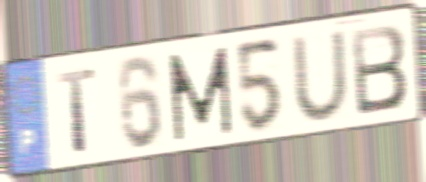5: (234, 32, 284, 137)
6: (116, 52, 164, 155)
B: (348, 20, 410, 119)
M: (166, 43, 235, 145)
T: (55, 65, 99, 156)
U: (288, 26, 352, 124)
